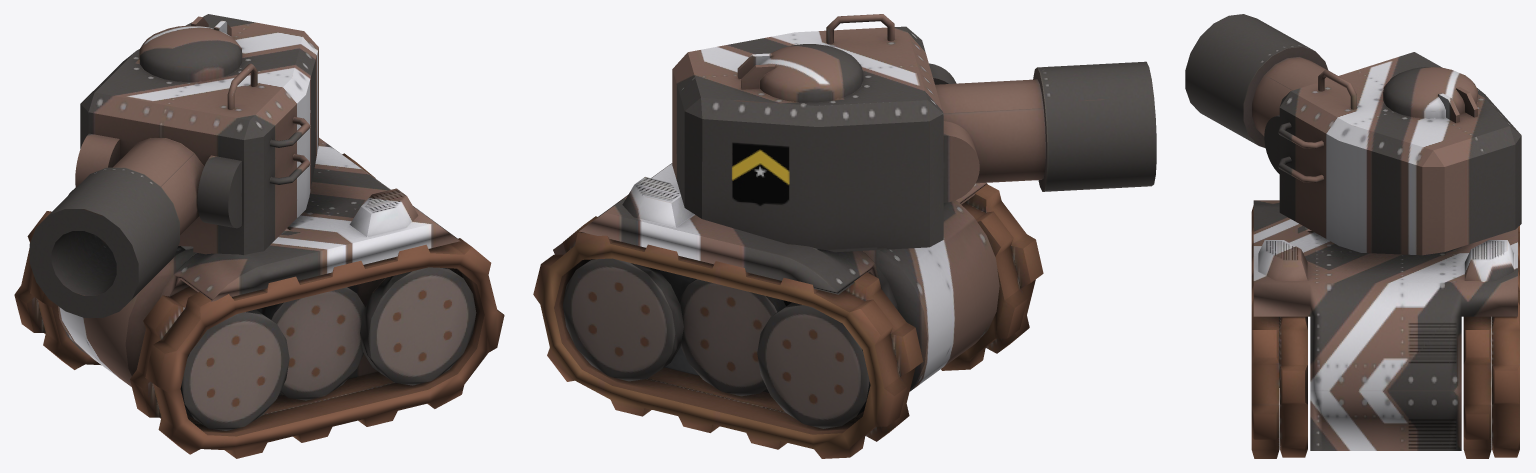
Rendered from Tank_40f_still.FBX.
The picture shows the model from 3 angles, left to right: view 1: azimuth 30°, elevation 25°; view 2: azimuth 150°, elevation 25°; view 3: azimuth 270°, elevation 25°; orthographic projection. The views are drawn at different scales.
Parts seen in each view (by area): view 1: KVtank 2, KVtank_turret 2; view 2: KVtank 2, KVtank_turret 2; view 3: KVtank 2, KVtank_turret 2.
Boxes of the visible parts, x1,y1,x2,y2 form: KVtank 2: (14, 138, 504, 458); KVtank_turret 2: (29, 14, 318, 317); KVtank 2: (533, 163, 1043, 458); KVtank_turret 2: (672, 14, 1156, 252); KVtank 2: (1251, 200, 1519, 458); KVtank_turret 2: (1185, 14, 1521, 255).
Bounding box in the file's own units: 89.6 × 61.26 × 59.68.
Materials: 1 (1 with a texture image).
